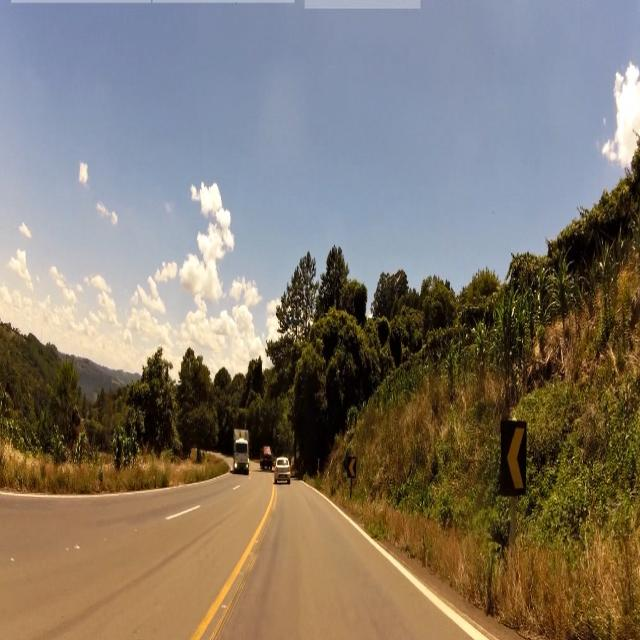Del: (501, 417, 527, 490), (348, 455, 356, 481)
